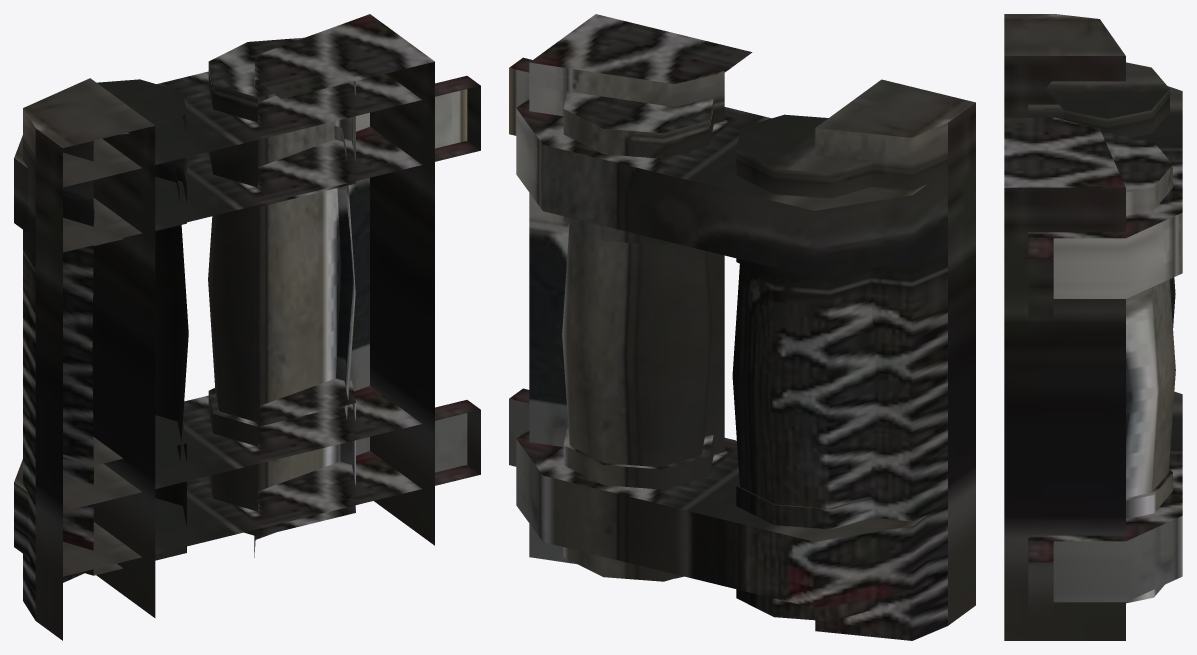
The model's file is p_glo_briefcase_bomb_battery.glb.
The picture shows the model from 3 angles, left to right: view 1: azimuth 30°, elevation 25°; view 2: azimuth 150°, elevation 25°; view 3: azimuth 270°, elevation 25°; orthographic projection. The views are drawn at different scales.
Visible parts, largest first — view 1: p_glo_briefcase_bomb_battery; view 2: p_glo_briefcase_bomb_battery; view 3: p_glo_briefcase_bomb_battery.
Part boxes in pixels (x1=…): p_glo_briefcase_bomb_battery: x1=14, y1=14, x2=480, y2=640; p_glo_briefcase_bomb_battery: x1=509, y1=14, x2=975, y2=640; p_glo_briefcase_bomb_battery: x1=1004, y1=14, x2=1182, y2=640.
Bounding box in the file's own units: 0.1561 × 0.1707 × 0.0599.
1 material, 1 textured.
